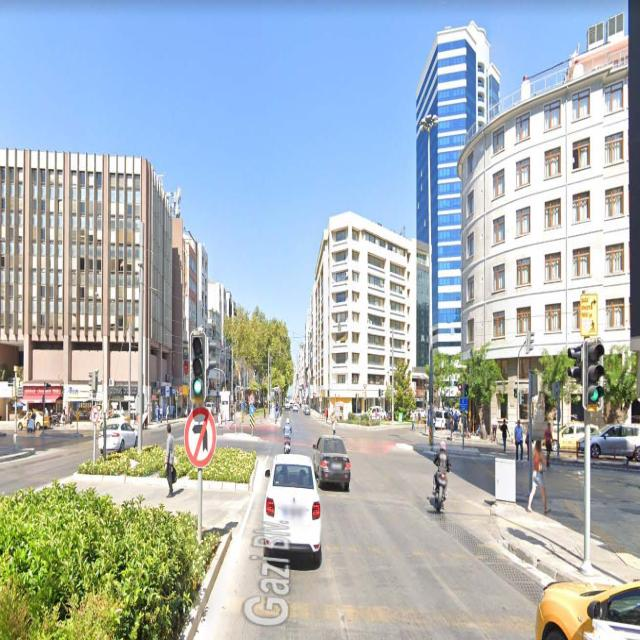sagadonulmez: (90, 406, 99, 425)
soladonulmez: (185, 406, 218, 465)
yesil: (586, 344, 602, 408), (191, 334, 203, 402)
